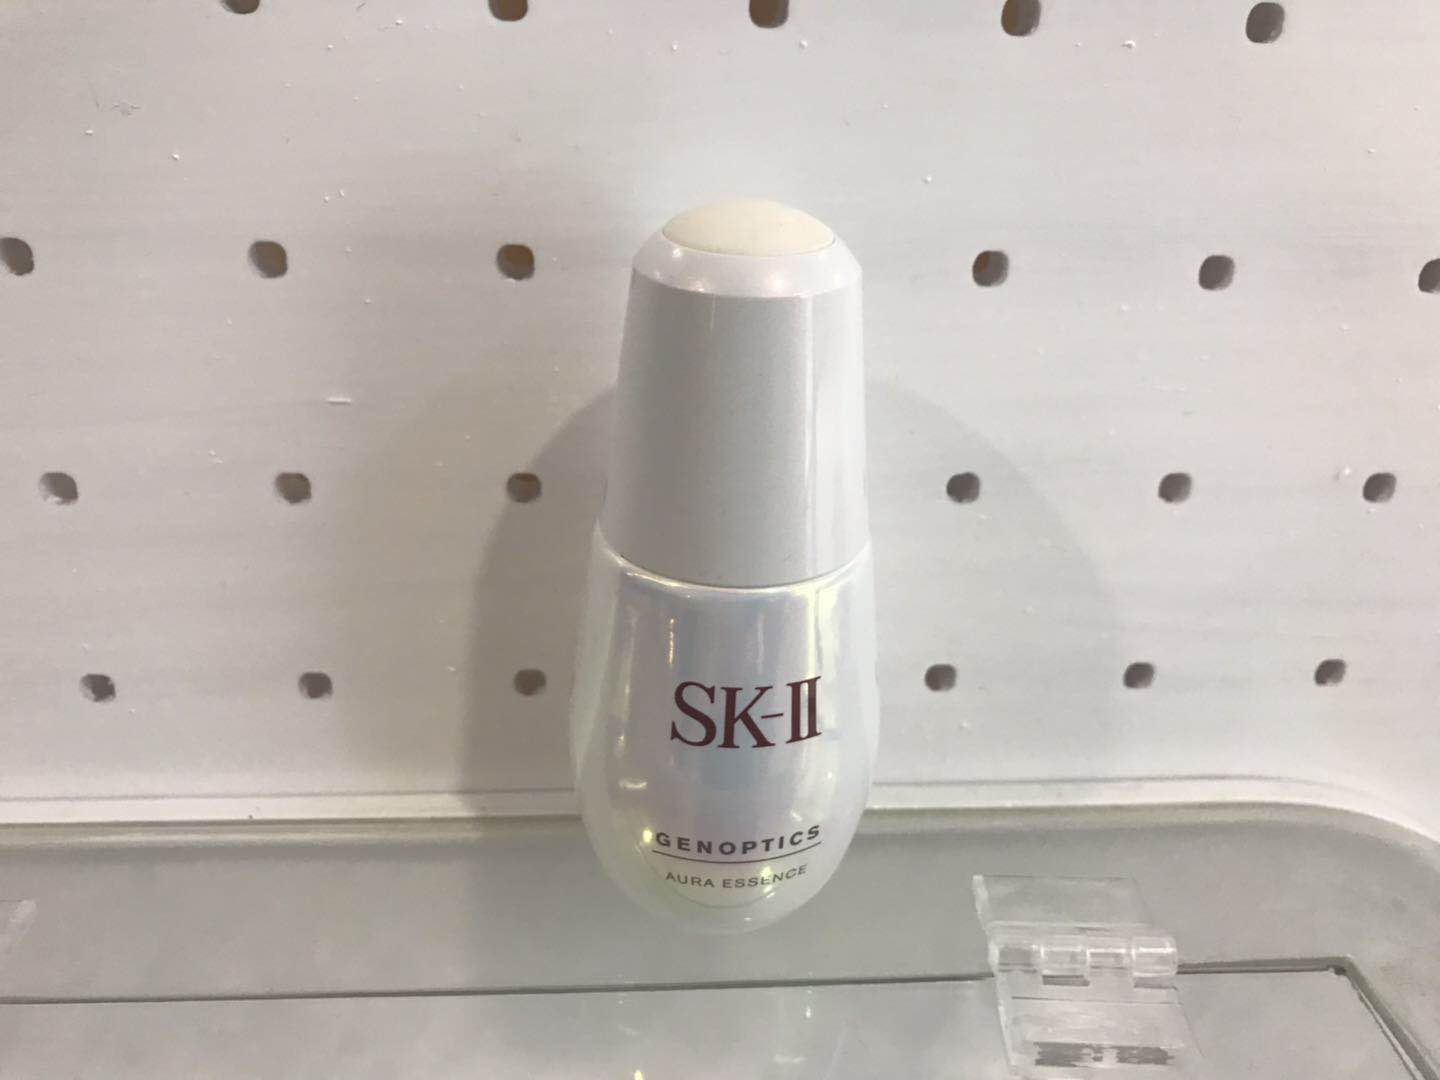sk2: (539, 144, 935, 979)
